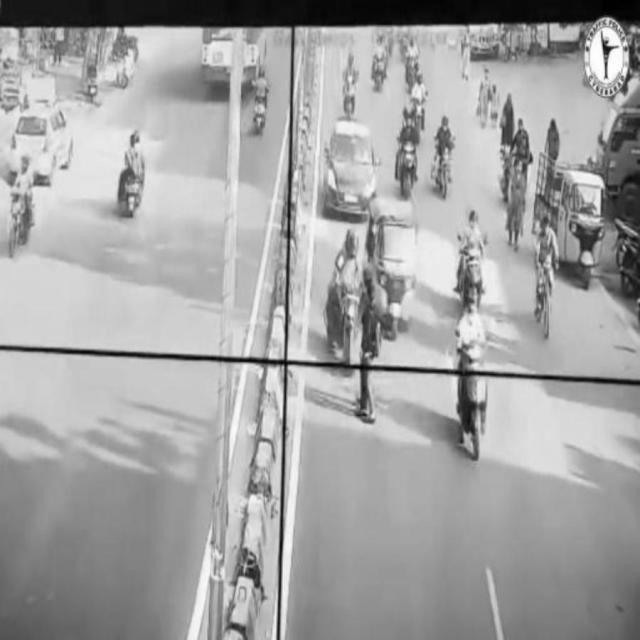person: (357, 278, 381, 429), (509, 155, 525, 253), (501, 90, 517, 157), (478, 68, 492, 125)
vehicle: (542, 147, 609, 291), (452, 289, 497, 459), (366, 202, 420, 340), (326, 227, 360, 378), (327, 122, 377, 215), (12, 107, 73, 180), (7, 140, 35, 261), (459, 212, 489, 314), (532, 218, 556, 334), (433, 111, 457, 199), (121, 133, 146, 214), (400, 108, 422, 196), (344, 52, 360, 119), (253, 68, 269, 134)
